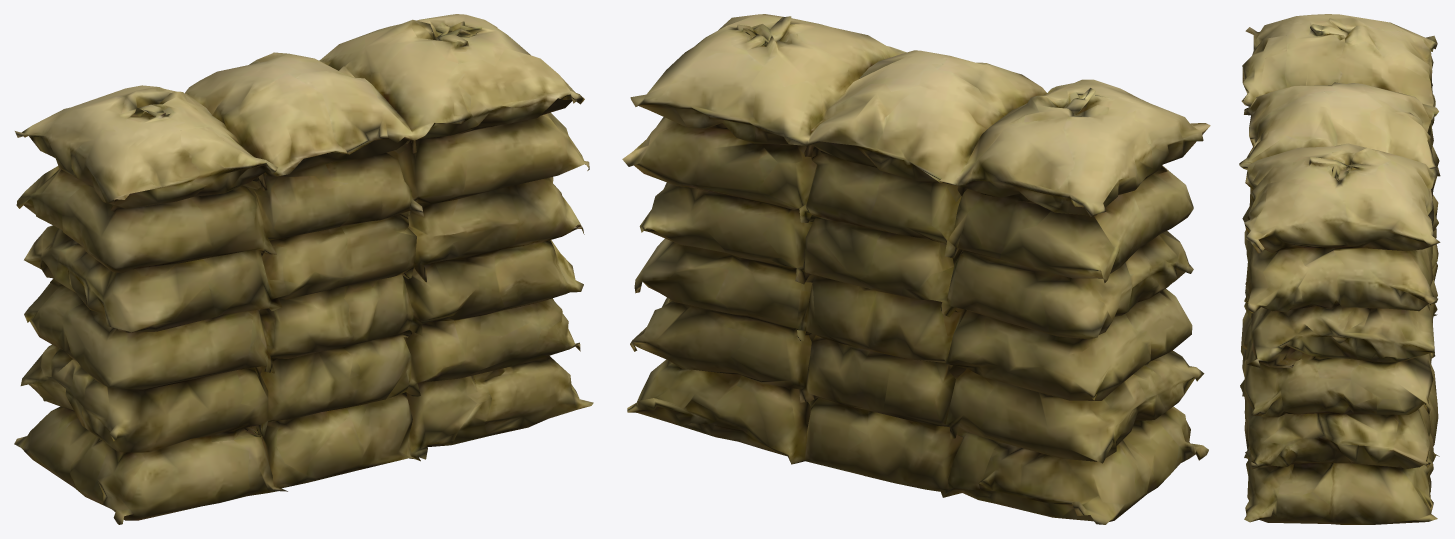
Rendered from sandbags.glb.
3 renders of one model, left to right at view 1: azimuth 30°, elevation 25°; view 2: azimuth 150°, elevation 25°; view 3: azimuth 270°, elevation 25°, orthographic. The views are drawn at different scales.
Visible parts, largest first — view 1: tripo_node_3501e932-1b47-449d-a0e6-0930b4eafdec; view 2: tripo_node_3501e932-1b47-449d-a0e6-0930b4eafdec; view 3: tripo_node_3501e932-1b47-449d-a0e6-0930b4eafdec.
Part boxes in pixels (left/top/right/bottom): tripo_node_3501e932-1b47-449d-a0e6-0930b4eafdec: left=14, top=14, right=593, bottom=524; tripo_node_3501e932-1b47-449d-a0e6-0930b4eafdec: left=622, top=14, right=1210, bottom=524; tripo_node_3501e932-1b47-449d-a0e6-0930b4eafdec: left=1239, top=14, right=1440, bottom=524.
Bounding box in the file's own units: 0.9997 × 0.7566 × 0.4067.
Materials: 1 (1 with a texture image).
